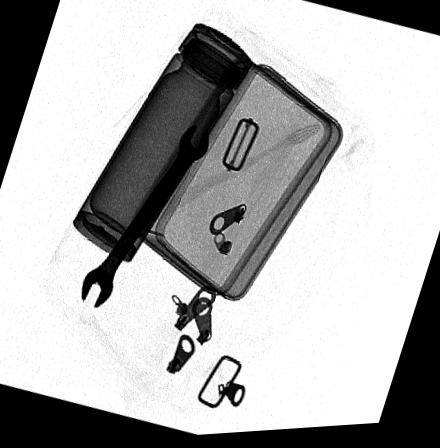Wrench: (81, 125, 210, 311)
